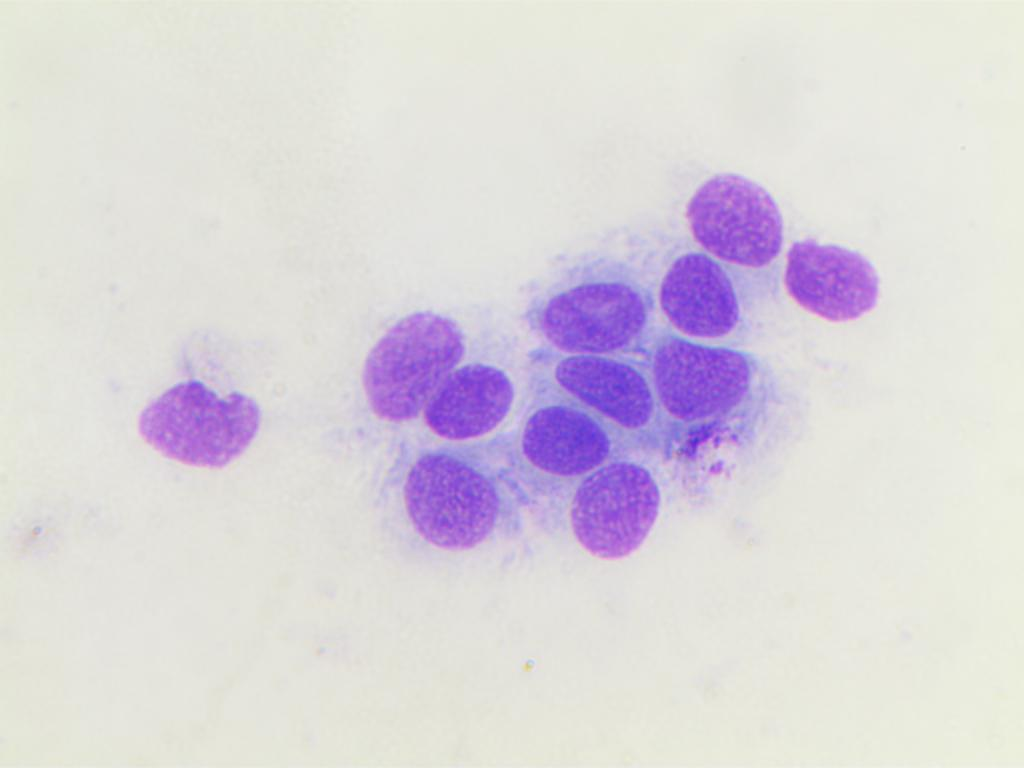epithelial: (112, 364, 278, 478), (351, 300, 464, 436), (780, 214, 885, 329), (568, 461, 661, 565), (685, 169, 781, 267), (403, 450, 499, 548), (654, 336, 763, 420), (534, 274, 646, 355), (548, 351, 654, 436), (650, 249, 747, 341), (428, 360, 523, 444), (520, 404, 612, 472)
